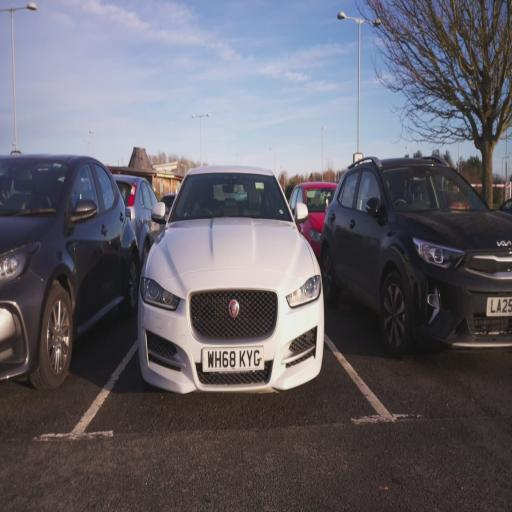numberplates: (203, 347, 264, 371), (487, 298, 511, 316)
